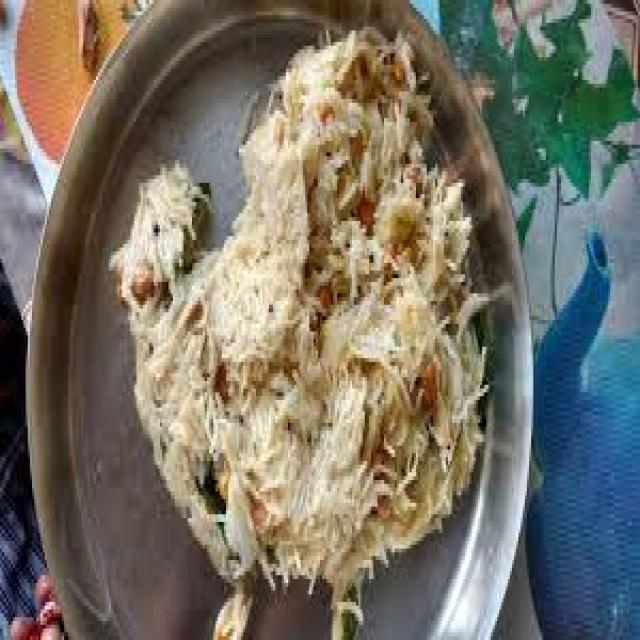UPMA: (119, 15, 484, 625)
